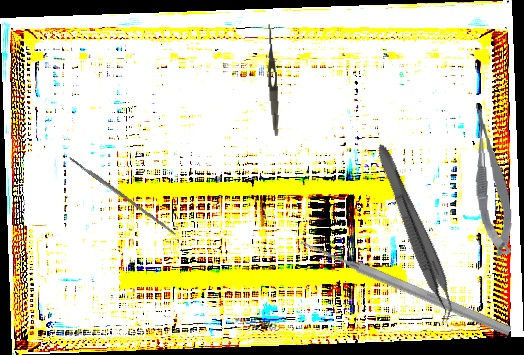Dressing Forceps: (264, 22, 281, 137)
Micro Scissor: (469, 103, 516, 259)
Pusher: (298, 235, 513, 338)
Scalpel Handle: (67, 154, 178, 237)
Tissue Forceps: (364, 141, 465, 326)
